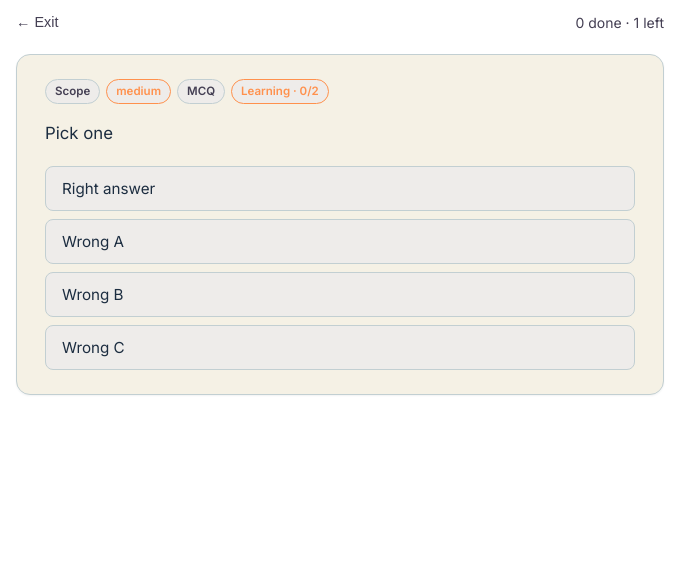
Test: MCQCard › picking the wrong option highlights correct and wrong, shows verdict
Click the button "Wrong A".
click(93, 241)  # box [45,219,635,264]
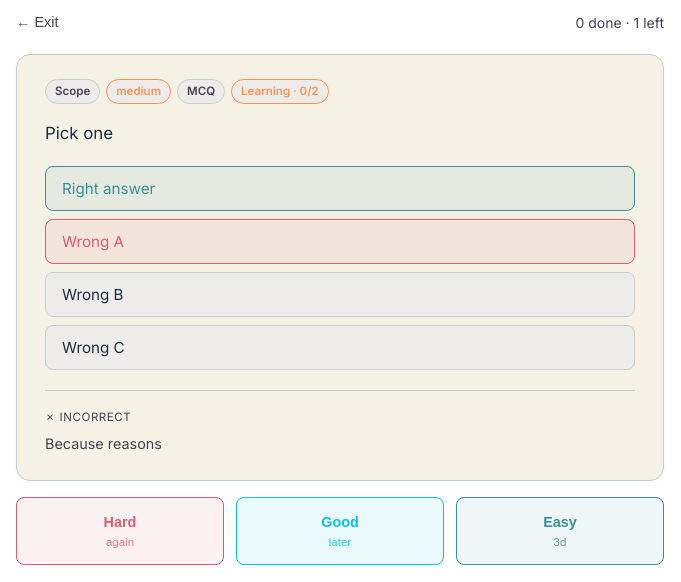
Now the text "✗ Incorrect" is shown, box [45,410,131,424]
Now the text "Because reasons" is shown, box [45,435,162,452]
Now the button "Easy 3d" is shown, box [456,497,664,565]
